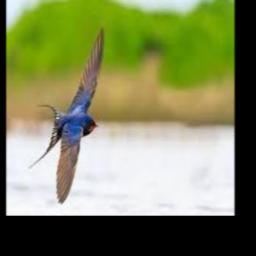Swallow: (29, 24, 103, 204)
